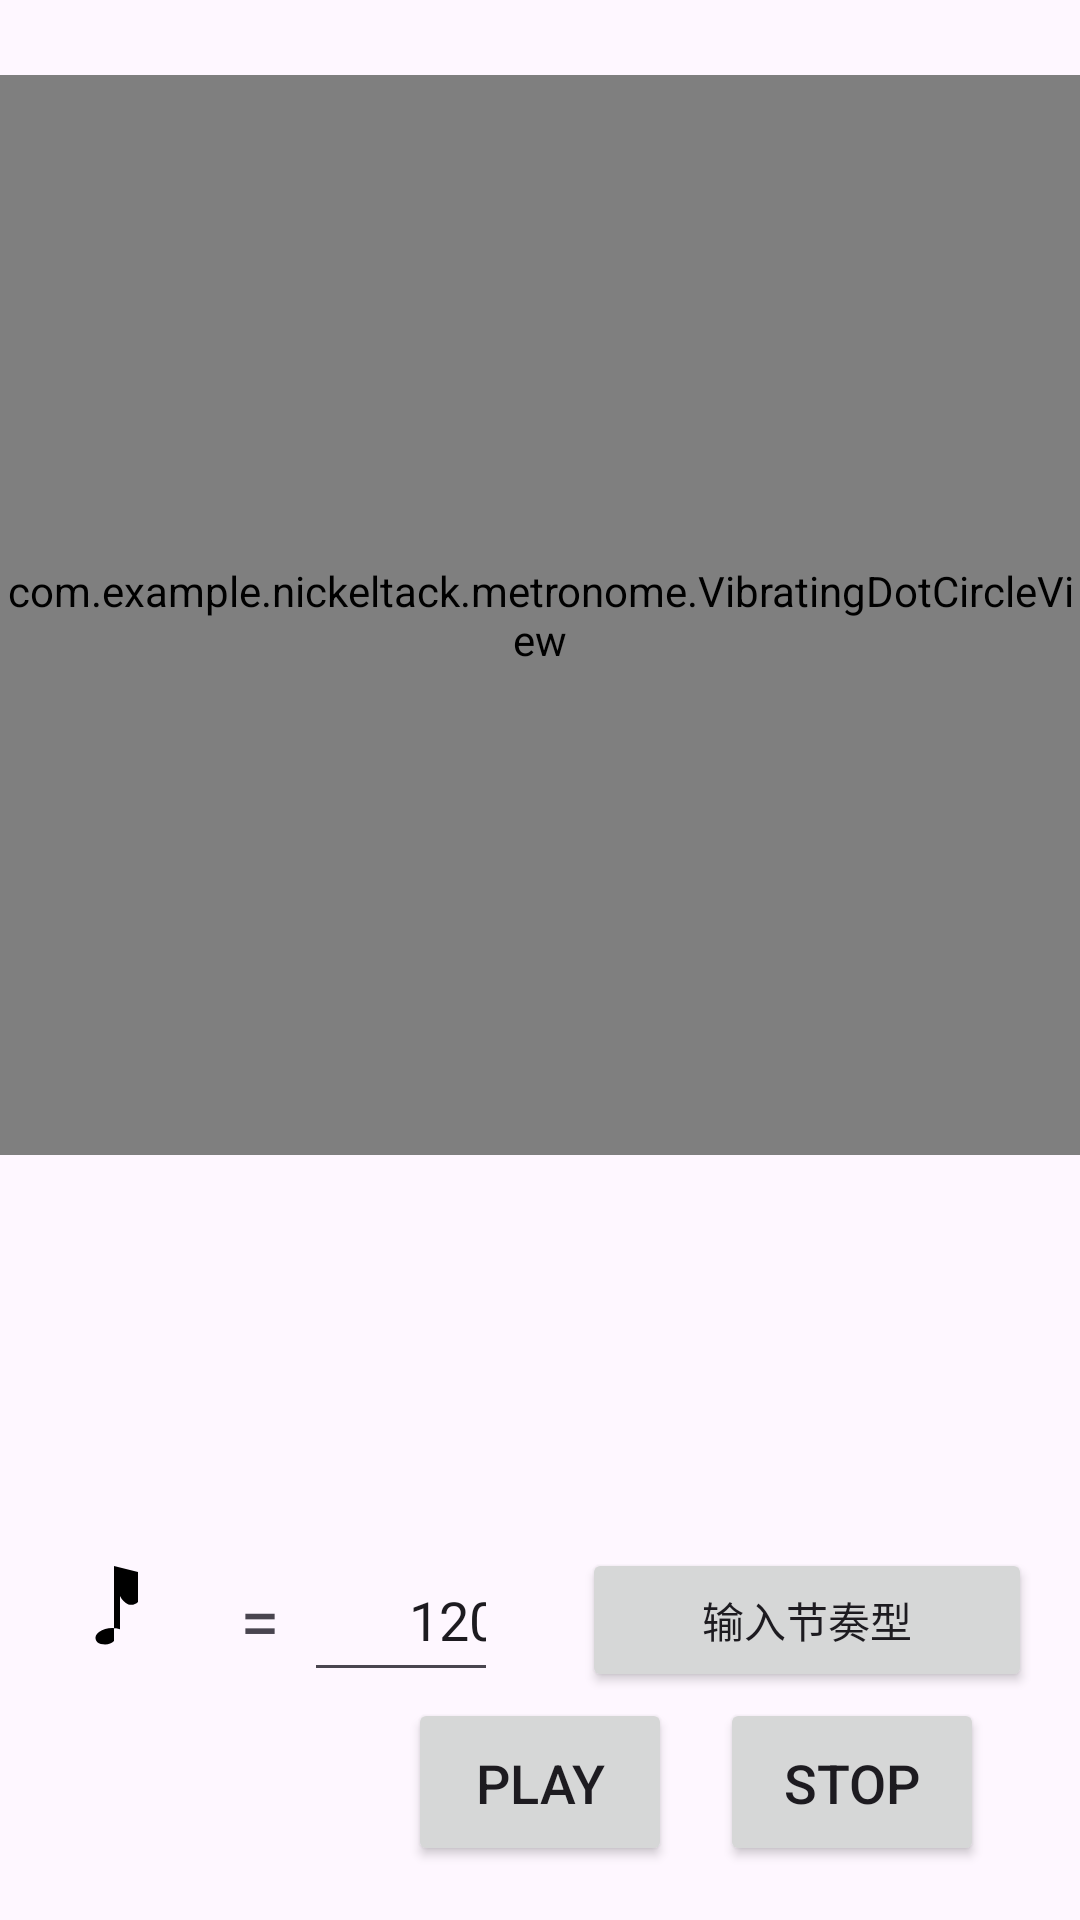

Locate icon controls on the screen. Image size 1080 x 1920, boxes as (x1, y1, x2, y2).
Music Note: (95, 1566, 138, 1645)
